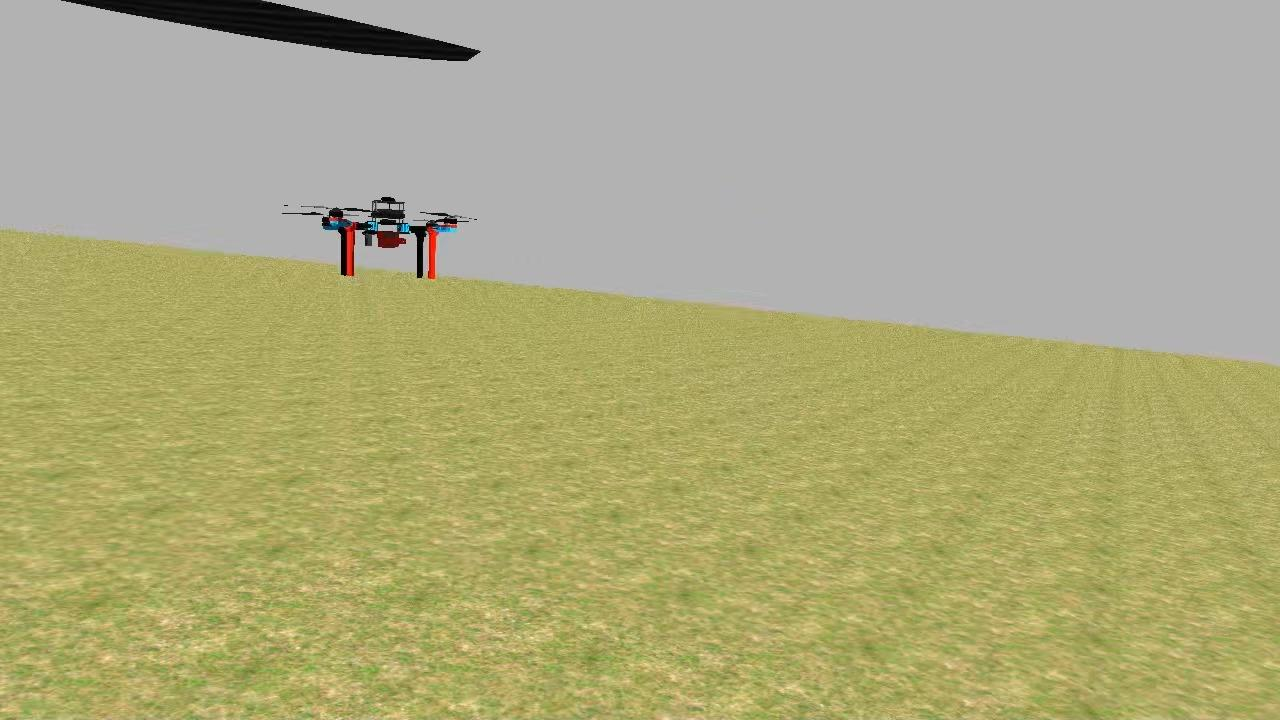UAV: (313, 185, 467, 288)
